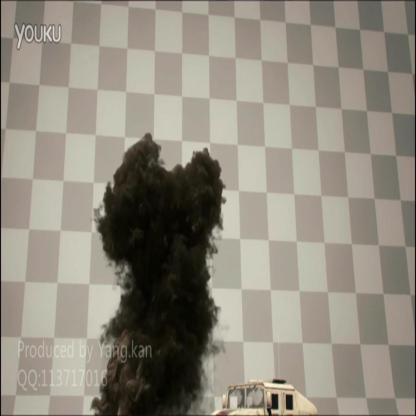smoke: (94, 133, 226, 260), (112, 261, 220, 346), (93, 346, 211, 410)
